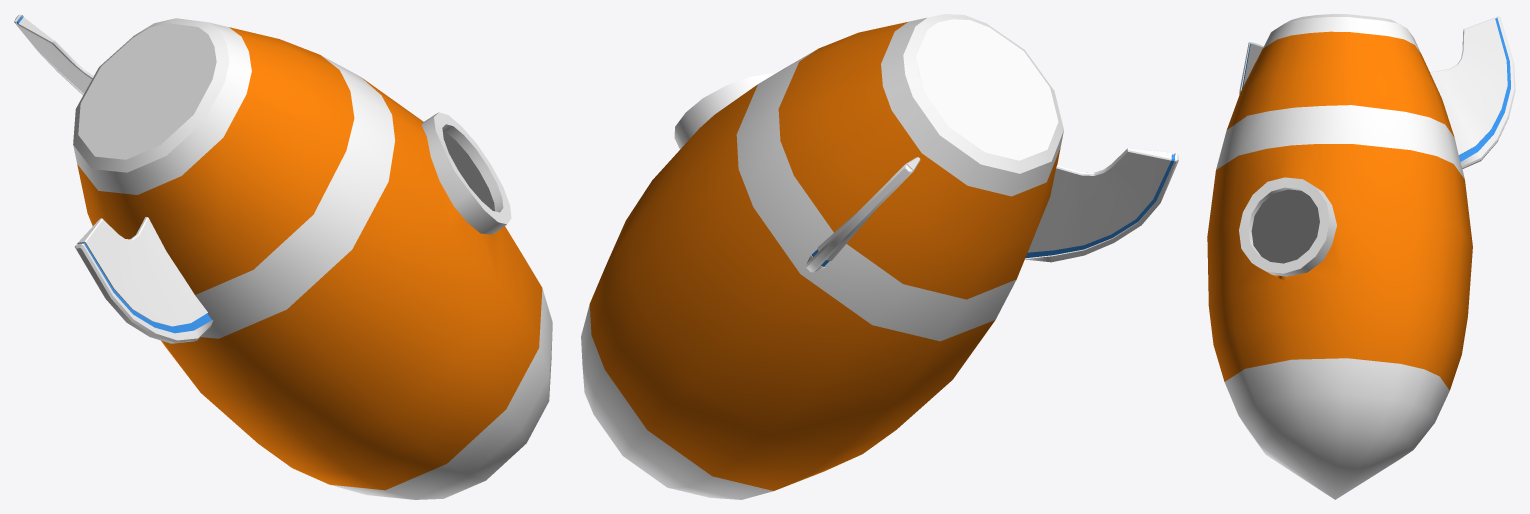
File: SpaceshipCurveAnimation.fbx
3 renders of one model, left to right at view 1: azimuth 30°, elevation 25°; view 2: azimuth 150°, elevation 25°; view 3: azimuth 270°, elevation 25°, orthographic. The views are drawn at different scales.
Visible parts, largest first — view 1: SatelliteDish; view 2: SatelliteDish; view 3: SatelliteDish.
Part boxes in pixels (x1,y1,x2,y2): SatelliteDish: [14, 14, 552, 499]; SatelliteDish: [581, 14, 1178, 499]; SatelliteDish: [1207, 14, 1515, 499].
Bounding box in the file's own units: 111 × 105 × 76.47.
